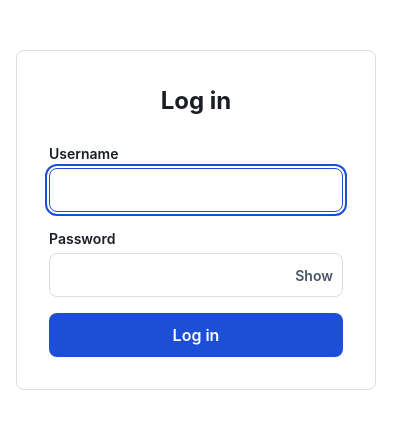
LoginPage › shows the API error above the form on a 400
Step 1. Type "alice" into the field labelled "Username" → (196, 190), box [49, 168, 343, 212]
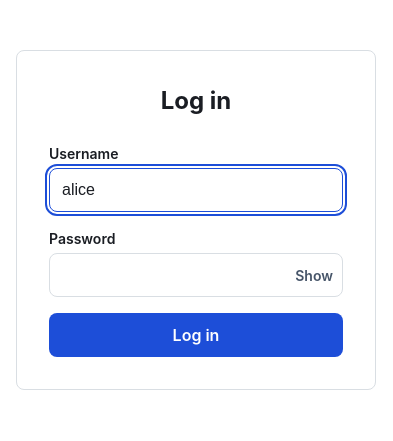
Step 2. Type "wrong-password" into the password field labelled "Password" → (196, 275), box [49, 253, 343, 297]
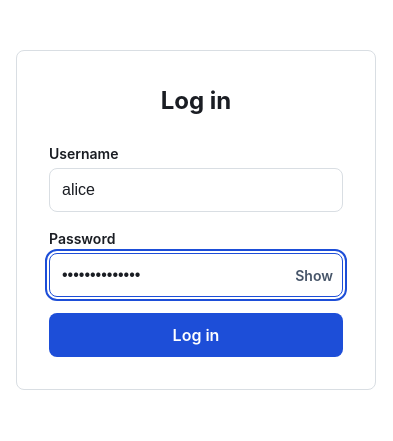
Step 3. Click the button "Log in" → (196, 335), box [49, 313, 343, 357]
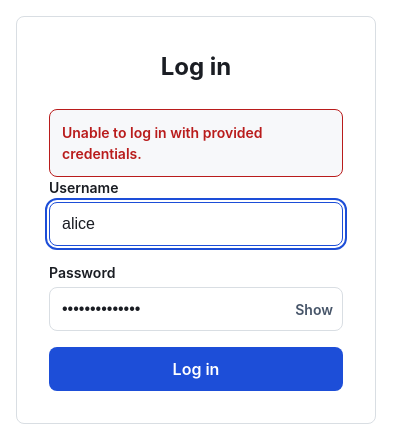
Now the message reads "Unable to log in with provided credentials.", box [62, 124, 263, 162]
